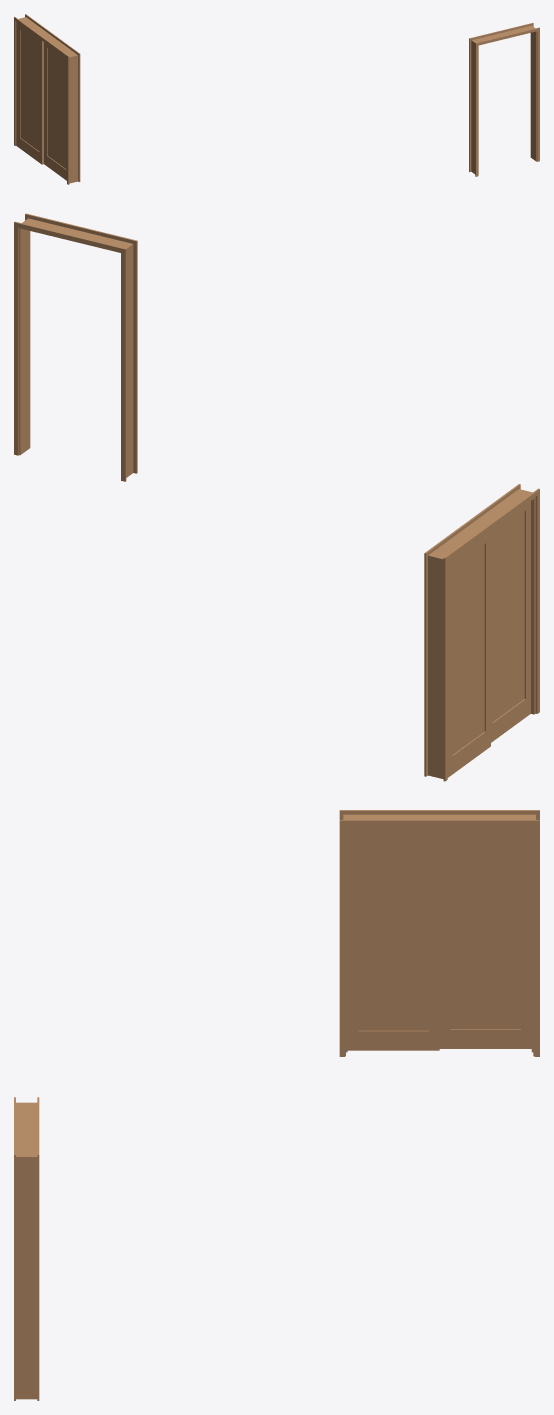
File: first-doors-00.glb
3 renders of one model, top to bottom at view 1: azimuth 30°, elevation 25°; view 2: azimuth 150°, elevation 25°; view 3: azimuth 270°, elevation 25°, orthographic. The views are drawn at different scales.
Parts seen in each view (by area): view 1: 1A4MBBn6L40fNm5h2gDXtt, 3gAZAQMjH8IRAoJD8j4Hs7; view 2: 1A4MBBn6L40fNm5h2gDXtt, 3gAZAQMjH8IRAoJD8j4Hs7; view 3: 1A4MBBn6L40fNm5h2gDXtt, 3gAZAQMjH8IRAoJD8j4Hs7.
Boxes of the visible parts, bbox=[...] form: 1A4MBBn6L40fNm5h2gDXtt: bbox=[14, 14, 80, 184]; 3gAZAQMjH8IRAoJD8j4Hs7: bbox=[469, 23, 539, 176]; 1A4MBBn6L40fNm5h2gDXtt: bbox=[424, 484, 539, 781]; 3gAZAQMjH8IRAoJD8j4Hs7: bbox=[14, 213, 137, 481]; 1A4MBBn6L40fNm5h2gDXtt: bbox=[339, 810, 539, 1056]; 3gAZAQMjH8IRAoJD8j4Hs7: bbox=[14, 1097, 39, 1400].
Size of the model in its own units: 7.63 by 2.54 by 4.92.
